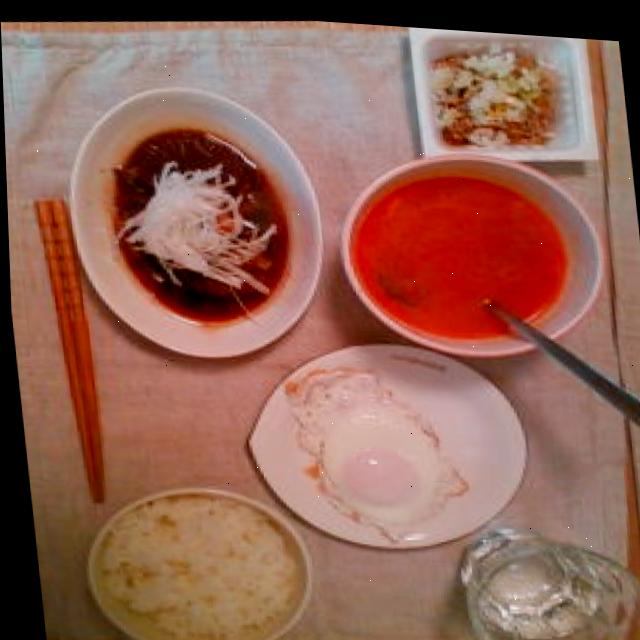米饭主食: (61, 467, 324, 640)
